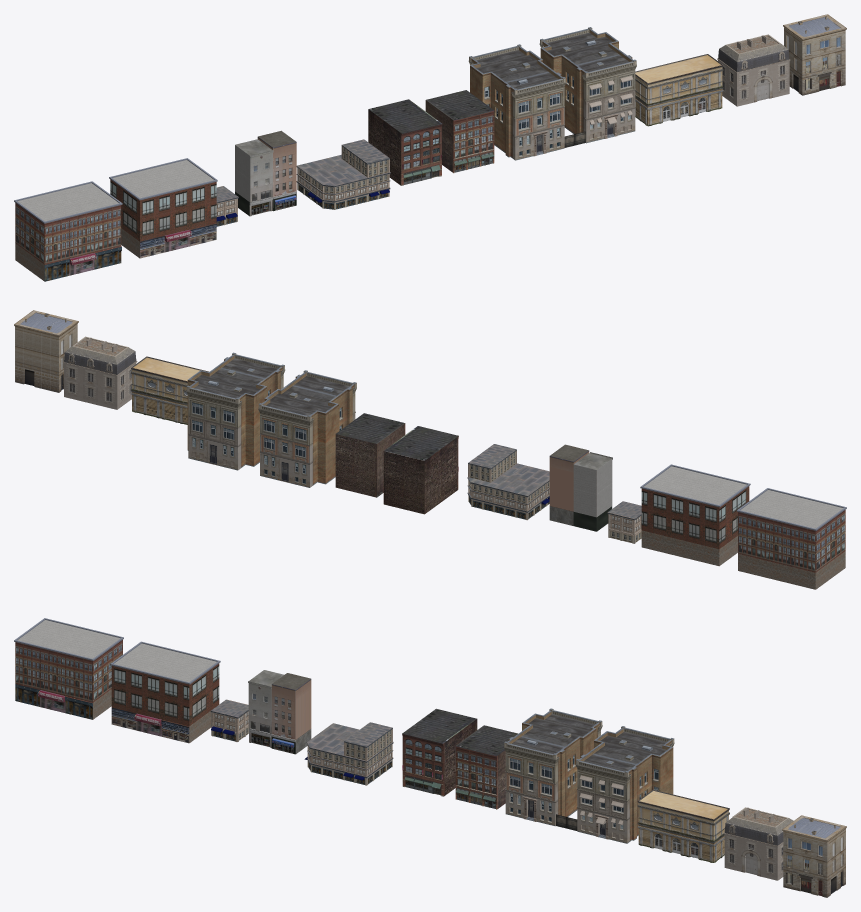
The model's file is buildings3.fbx.
3 renders of one model, top to bottom at view 1: azimuth 30°, elevation 25°; view 2: azimuth 150°, elevation 25°; view 3: azimuth 330°, elevation 25°, orthographic.
Visible parts, largest first — view 1: model_0, Building_06_Roof_tiles_0.001, Building_06_Roof_tiles_0.004, model_0.005, Object_4.001, Plane.065_atlas.005_0, Object_4, model_0.001, model_0.004, Object_6, atlas.037_atlas.004_0; view 2: model_0, Building_06_Roof_tiles_0.001, Building_06_Roof_tiles_0.004, Object_4.001, Object_4, Plane.065_atlas.005_0, model_0.004, Object_6, model_0.001, model_0.005, atlas.037_atlas.004_0; view 3: model_0, Building_06_Roof_tiles_0.004, Building_06_Roof_tiles_0.001, model_0.005, Object_4, Object_4.001, model_0.001, Plane.065_atlas.005_0, Object_6, model_0.004, atlas.037_atlas.004_0.
Boxes of the visible parts, box(x1,y1,x2,y2) form: model_0: box(468, 27, 636, 160); Building_06_Roof_tiles_0.001: box(14, 181, 122, 281); Building_06_Roof_tiles_0.004: box(109, 158, 217, 258); model_0.005: box(635, 54, 723, 126); Object_4.001: box(368, 99, 442, 185); Plane.065_atlas.005_0: box(296, 139, 390, 209); Object_4: box(235, 130, 296, 216); model_0.001: box(783, 14, 846, 95); model_0.004: box(717, 34, 790, 106); Object_6: box(425, 90, 494, 173); atlas.037_atlas.004_0: box(216, 186, 238, 226); model_0: box(186, 352, 356, 487); Building_06_Roof_tiles_0.001: box(737, 488, 846, 589); Building_06_Roof_tiles_0.004: box(640, 464, 750, 566); Object_4.001: box(383, 426, 458, 514); Object_4: box(549, 444, 612, 531); Plane.065_atlas.005_0: box(467, 444, 549, 520); model_0.004: box(63, 336, 137, 409); Object_6: box(335, 413, 405, 497); model_0.001: box(14, 310, 78, 392); model_0.005: box(131, 356, 208, 424); atlas.037_atlas.004_0: box(607, 501, 641, 543); model_0: box(504, 708, 674, 843); Building_06_Roof_tiles_0.004: box(110, 641, 220, 743); Building_06_Roof_tiles_0.001: box(14, 618, 123, 719); model_0.005: box(637, 789, 729, 862); Object_4: box(248, 670, 311, 754); Object_4.001: box(402, 708, 477, 796); model_0.001: box(782, 815, 846, 897); Plane.065_atlas.005_0: box(304, 722, 393, 785); Object_6: box(455, 725, 517, 809); model_0.004: box(723, 807, 793, 880); atlas.037_atlas.004_0: box(210, 699, 248, 741).
Bounding box in the file's own units: 7947 × 706 × 934.
